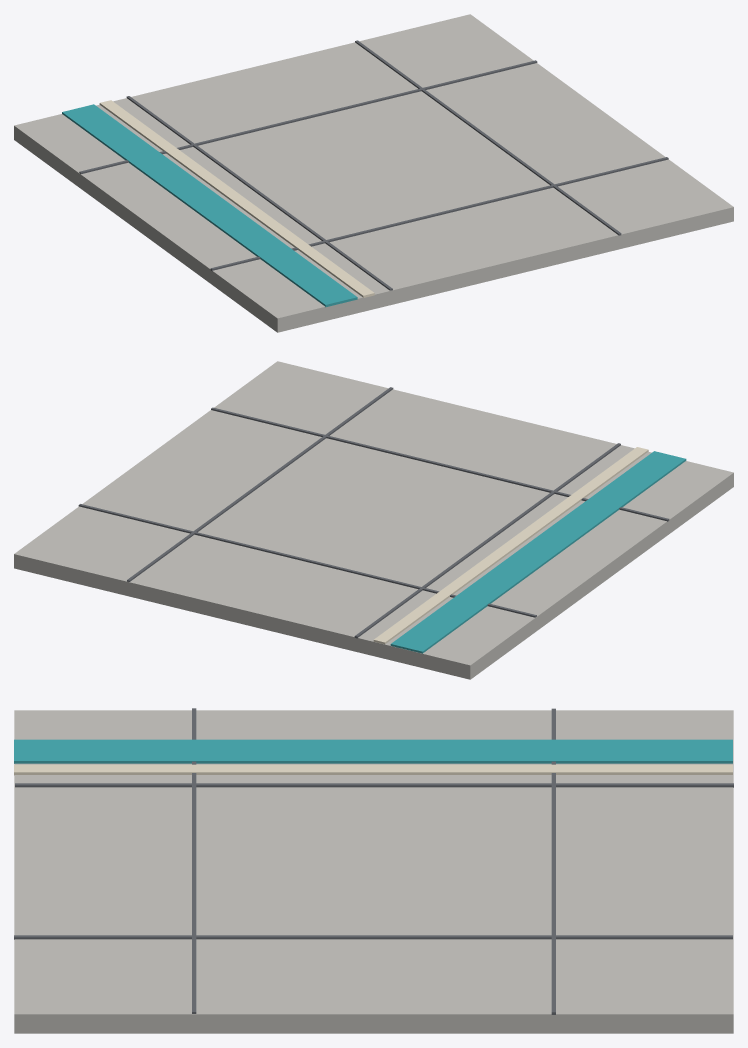
The model's file is floor.glb.
The picture shows the model from 3 angles, top to bottom: view 1: azimuth 30°, elevation 25°; view 2: azimuth 150°, elevation 25°; view 3: azimuth 270°, elevation 25°; orthographic projection. The views are drawn at different scales.
Visible parts, largest first — view 1: visitor-floor-tile; view 2: visitor-floor-tile; view 3: visitor-floor-tile.
Boxes of the visible parts, x1=… form: visitor-floor-tile: x1=14, y1=14, x2=733, y2=332; visitor-floor-tile: x1=14, y1=361, x2=733, y2=679; visitor-floor-tile: x1=14, y1=708, x2=733, y2=1033.
Bounding box in the file's own units: 2 × 0.068 × 2.
